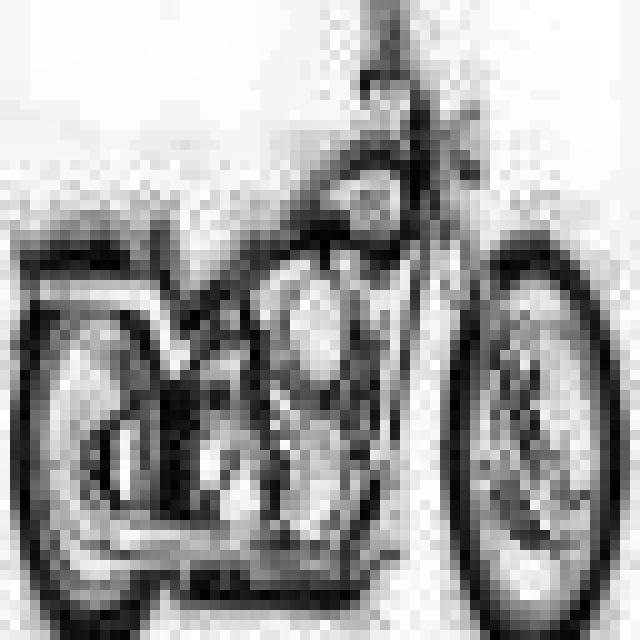mopeds: (27, 54, 640, 640)
